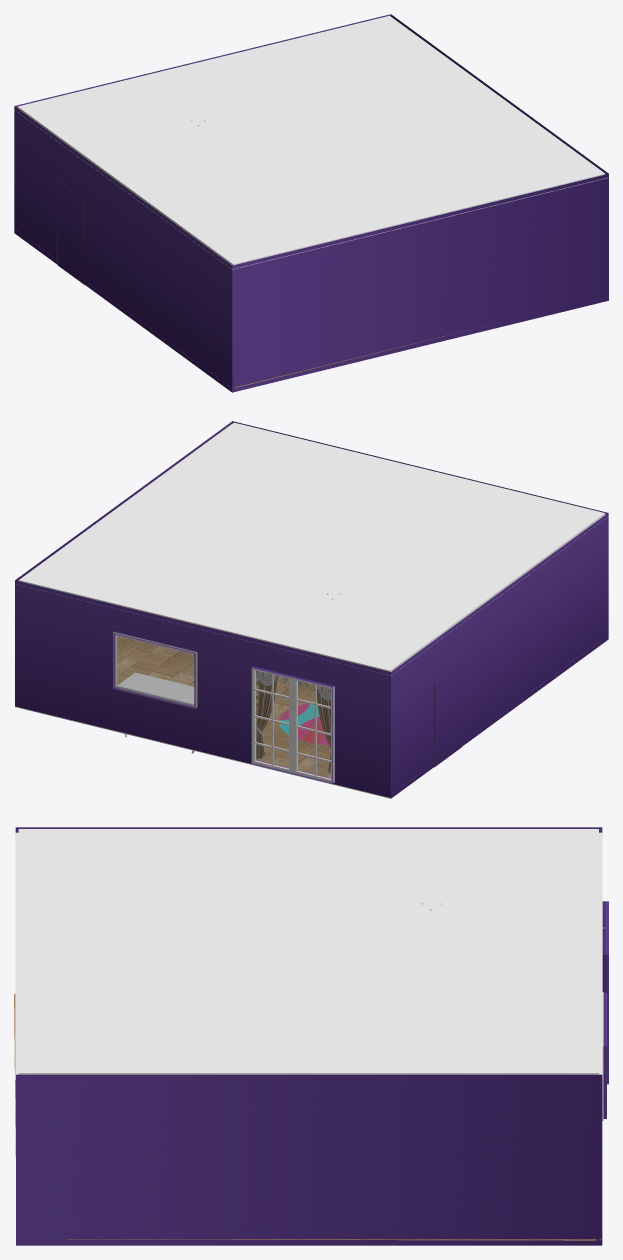
File: set 2.fbx
3 renders of one model, top to bottom at view 1: azimuth 30°, elevation 25°; view 2: azimuth 150°, elevation 25°; view 3: azimuth 270°, elevation 25°, orthographic. The views are drawn at different scales.
Parts seen in each view (by area): view 1: polySurface54; view 2: polySurface54, wall_light1:polySurface7, wall_light1:polySurface16, wall_light1:polySurface15; view 3: polySurface54, wall_light1:polySurface16.
Part boxes in pixels (left/top/right/bottom): polySurface54: left=14, top=14, right=608, bottom=392; polySurface54: left=15, top=421, right=608, bottom=798; wall_light1:polySurface7: left=113, top=631, right=330, bottom=778; wall_light1:polySurface16: left=117, top=636, right=597, bottom=792; wall_light1:polySurface15: left=256, top=671, right=330, bottom=773; polySurface54: left=15, top=827, right=608, bottom=1245; wall_light1:polySurface16: left=14, top=994, right=600, bottom=1240.
Bounding box in the file's own units: 0.8649 × 0.2897 × 0.8738.
